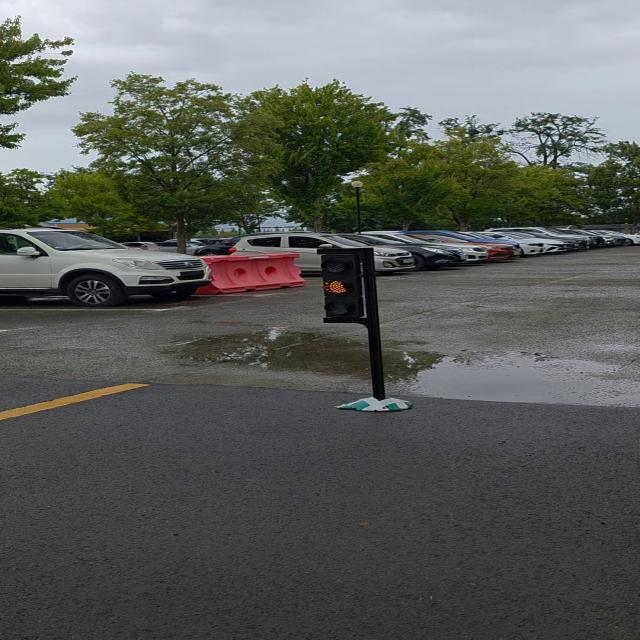yellow: (316, 253, 374, 325)
